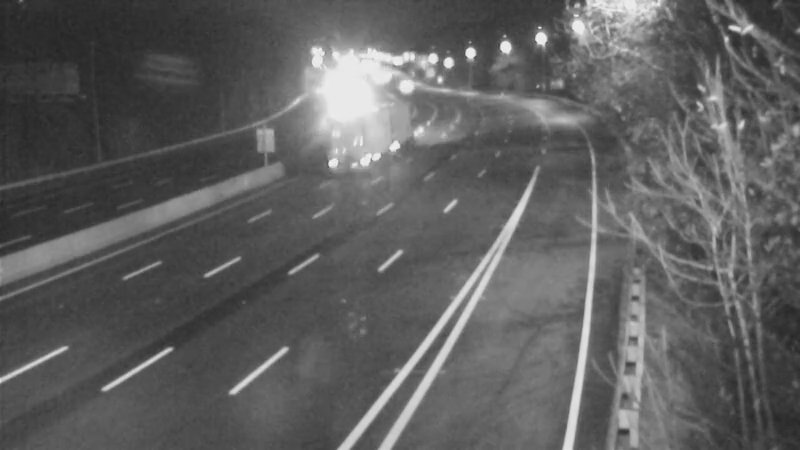vehicle: (387, 61, 437, 111), (326, 111, 376, 161), (310, 94, 360, 144)
